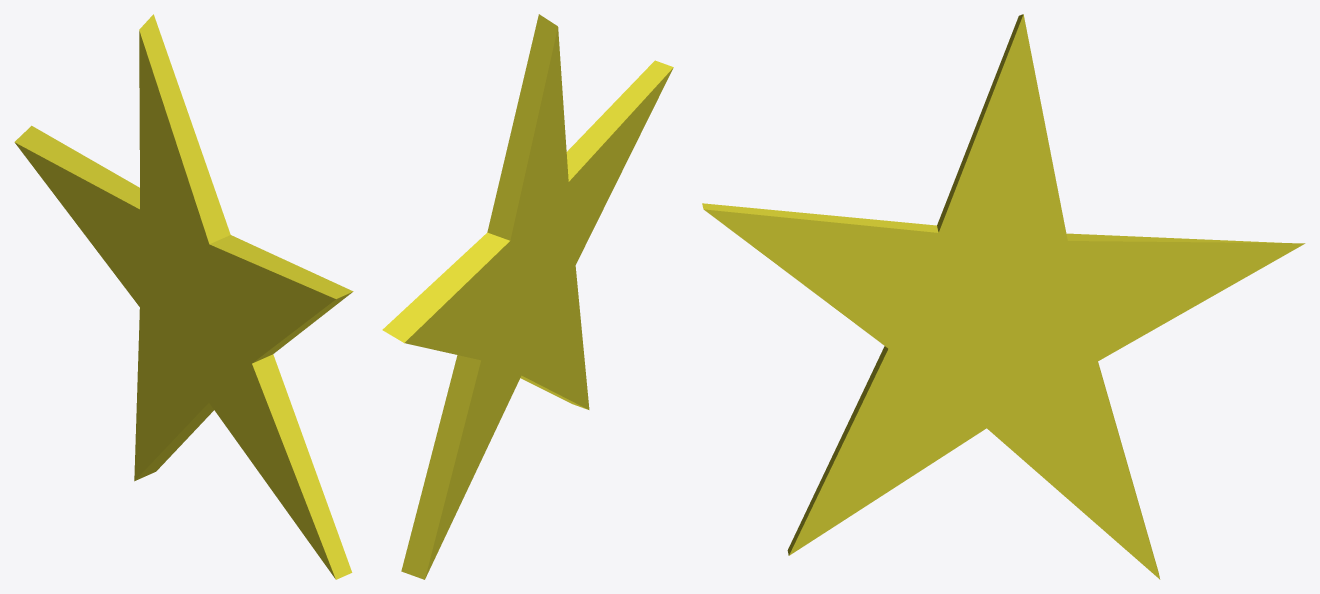
Rendered from star.glb.
3 views of the same model, side by side, from view 1: azimuth 30°, elevation 25°; view 2: azimuth 150°, elevation 25°; view 3: azimuth 270°, elevation 25° (orthographic).
Parts seen in each view (by area): view 1: Cylinder; view 2: Cylinder; view 3: Cylinder.
Boxes of the visible parts, <box> form: Cylinder: <box>14,14,353,579</box>; Cylinder: <box>382,14,673,579</box>; Cylinder: <box>702,14,1305,579</box>.
Size of the model in its own units: 0.2696 by 1.36 by 1.39.
